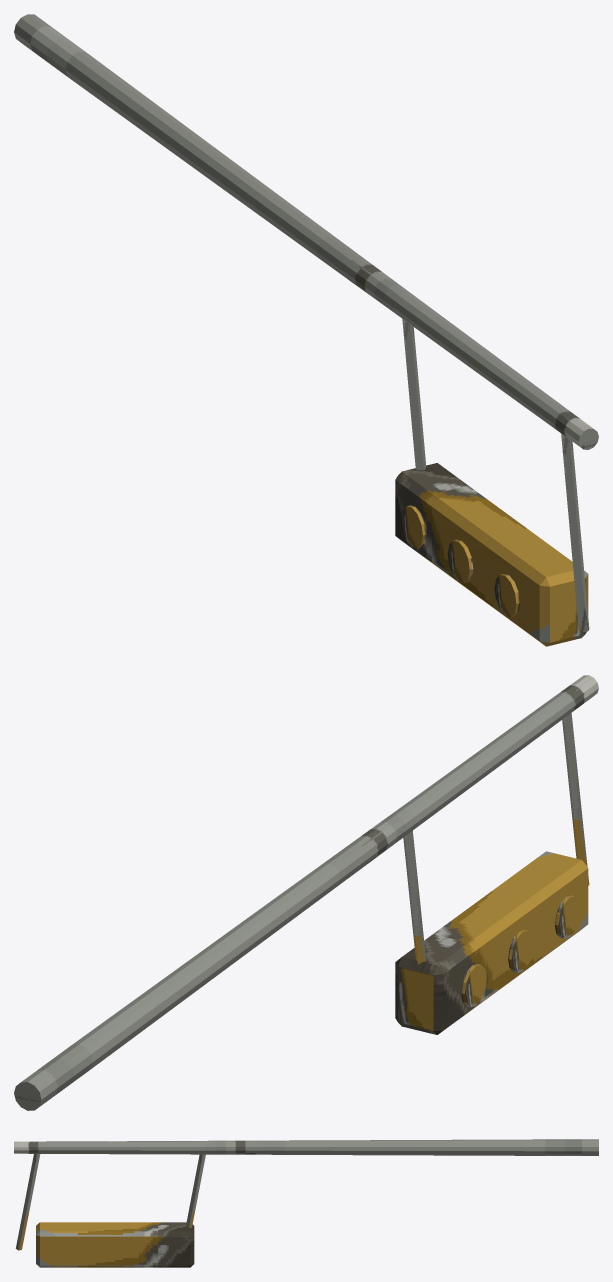
File: pz_street_pole_21.obj
3 renders of one model, top to bottom at view 1: azimuth 30°, elevation 25°; view 2: azimuth 150°, elevation 25°; view 3: azimuth 270°, elevation 25°, orthographic. The views are drawn at different scales.
Parts seen in each view (by area): view 1: pz_street_pole_21_|_tapered_native_street_pole, pz_street_pole_21_|_native_traffic_signal_housing, pz_street_pole_21_|_traffic_light_support_arm.001, pz_street_pole_21_|_traffic_light_support_arm, pz_street_pole_21_|_signal_light_lens.002, pz_street_pole_21_|_signal_light_lens.001, pz_street_pole_21_|_signal_light_lens; view 2: pz_street_pole_21_|_tapered_native_street_pole, pz_street_pole_21_|_native_traffic_signal_housing, pz_street_pole_21_|_traffic_light_support_arm.001, pz_street_pole_21_|_traffic_light_support_arm, pz_street_pole_21_|_signal_light_lens.002, pz_street_pole_21_|_signal_light_lens, pz_street_pole_21_|_signal_light_lens.001; view 3: pz_street_pole_21_|_tapered_native_street_pole, pz_street_pole_21_|_native_traffic_signal_housing, pz_street_pole_21_|_traffic_light_support_arm.001, pz_street_pole_21_|_traffic_light_support_arm.
Part boxes in pixels (box(x1,y1,x2,y2)): pz_street_pole_21_|_tapered_native_street_pole: box(14, 14, 598, 449); pz_street_pole_21_|_native_traffic_signal_housing: box(395, 463, 588, 646); pz_street_pole_21_|_traffic_light_support_arm.001: box(561, 433, 589, 631); pz_street_pole_21_|_traffic_light_support_arm: box(402, 319, 426, 470); pz_street_pole_21_|_signal_light_lens.002: box(401, 505, 426, 548); pz_street_pole_21_|_signal_light_lens.001: box(447, 539, 473, 582); pz_street_pole_21_|_signal_light_lens: box(494, 574, 519, 616); pz_street_pole_21_|_tapered_native_street_pole: box(14, 675, 598, 1110); pz_street_pole_21_|_native_traffic_signal_housing: box(395, 851, 588, 1034); pz_street_pole_21_|_traffic_light_support_arm.001: box(562, 713, 589, 885); pz_street_pole_21_|_traffic_light_support_arm: box(403, 830, 426, 964); pz_street_pole_21_|_signal_light_lens.002: box(461, 964, 486, 1007); pz_street_pole_21_|_signal_light_lens: box(555, 895, 580, 938); pz_street_pole_21_|_signal_light_lens.001: box(508, 929, 533, 972); pz_street_pole_21_|_tapered_native_street_pole: box(14, 1139, 598, 1155); pz_street_pole_21_|_native_traffic_signal_housing: box(36, 1222, 194, 1267); pz_street_pole_21_|_traffic_light_support_arm.001: box(15, 1154, 40, 1250); pz_street_pole_21_|_traffic_light_support_arm: box(186, 1154, 205, 1227).
Size of the model in its own units: 0.139 by 0.556 by 2.4.
Materials: 5 (5 with a texture image).
